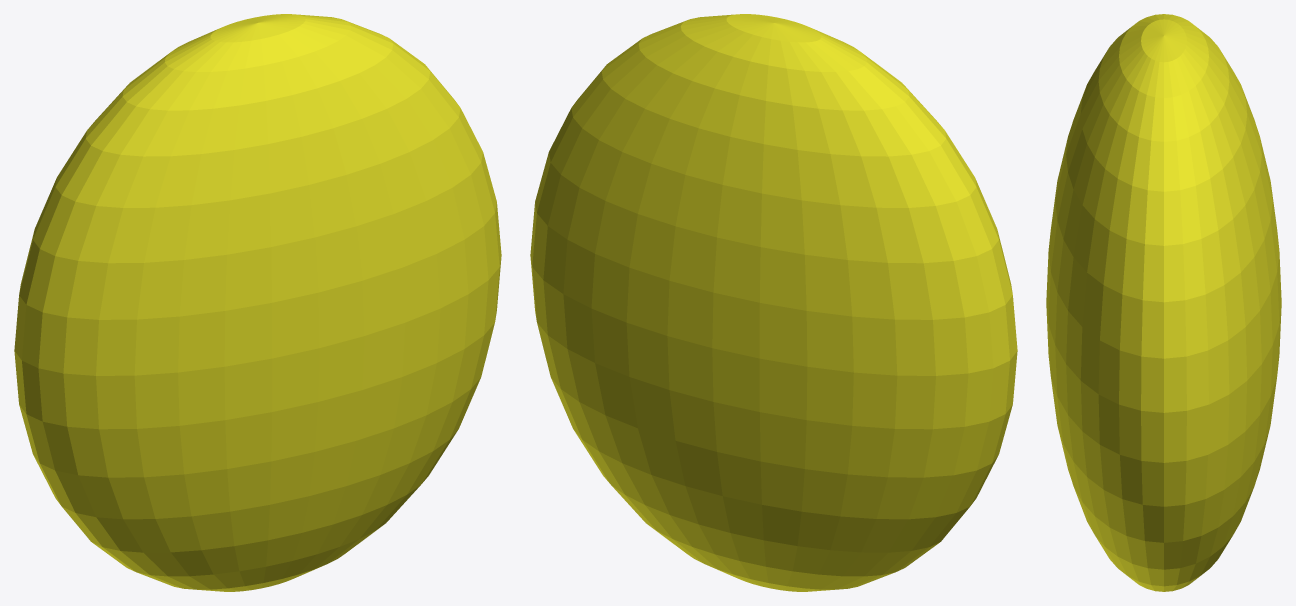
Rendered from coin.fbx.
The picture shows the model from 3 angles, left to right: view 1: azimuth 30°, elevation 25°; view 2: azimuth 150°, elevation 25°; view 3: azimuth 270°, elevation 25°; orthographic projection. The views are drawn at different scales.
Visible parts, largest first — view 1: 球; view 2: 球; view 3: 球.
Part boxes in pixels (box(x1,y1,x2,y2)): 球: box(14, 14, 501, 591); 球: box(530, 14, 1017, 591); 球: box(1046, 14, 1281, 591).
Bounding box in the file's own units: 200 × 227 × 90.52.
